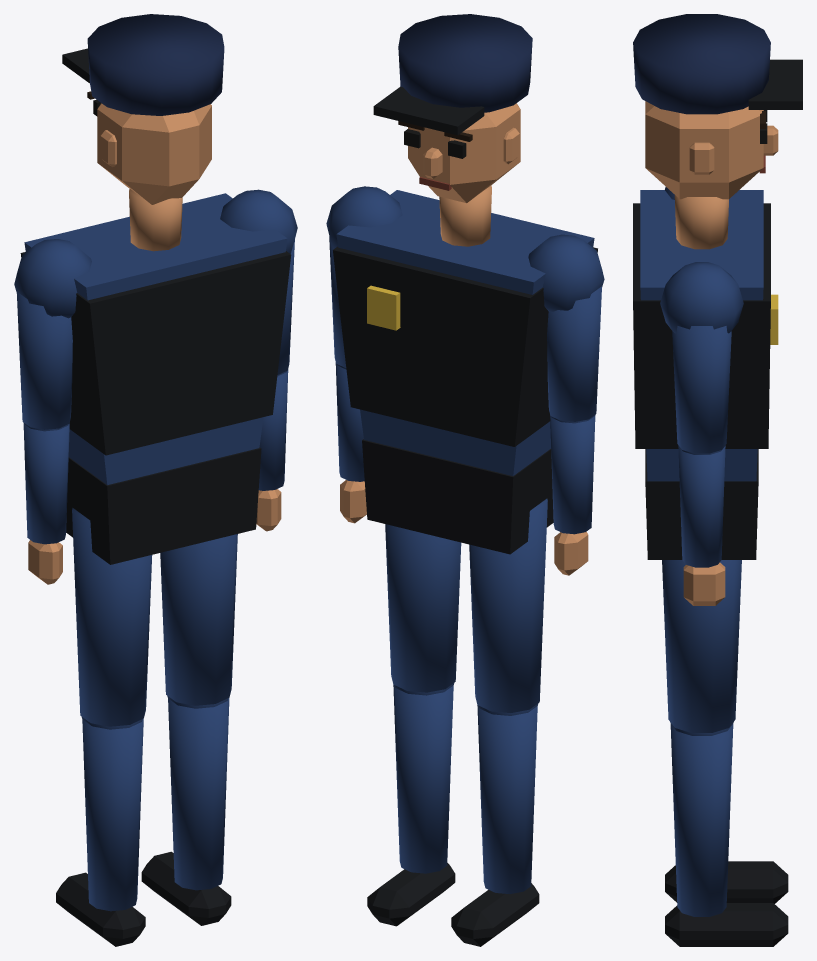
The model's file is policial.glb.
3 views of the same model, side by side, from view 1: azimuth 30°, elevation 25°; view 2: azimuth 150°, elevation 25°; view 3: azimuth 270°, elevation 25° (orthographic).
Visible parts, largest first — view 1: tronco, cabeca, canela_dir, canela_esq, perna_esq, perna_dir, braco_esq, antebraco_esq, antebraco_dir, braco_dir; view 2: tronco, cabeca, canela_dir, canela_esq, perna_esq, perna_dir, braco_esq, antebraco_esq, antebraco_dir, braco_dir; view 3: tronco, cabeca, canela_dir, perna_dir, braco_dir, antebraco_dir, canela_esq.
Part boxes in pixels (x1,y1,x2,y2): tronco: [14, 189, 297, 564]; cabeca: [62, 14, 224, 204]; canela_dir: [141, 698, 231, 925]; canela_esq: [56, 718, 145, 946]; perna_esq: [72, 508, 152, 729]; perna_dir: [160, 534, 237, 708]; braco_esq: [16, 292, 72, 431]; antebraco_esq: [23, 423, 69, 584]; antebraco_dir: [256, 369, 288, 531]; braco_dir: [277, 240, 294, 376]; tronco: [326, 185, 604, 554]; cabeca: [373, 14, 532, 203]; canela_dir: [367, 684, 455, 926]; canela_esq: [451, 705, 539, 946]; perna_esq: [469, 498, 547, 715]; perna_dir: [385, 524, 461, 695]; braco_esq: [547, 286, 601, 423]; antebraco_esq: [550, 415, 595, 575]; antebraco_dir: [335, 362, 366, 523]; braco_dir: [329, 236, 346, 369]; tronco: [633, 187, 778, 559]; cabeca: [633, 14, 802, 199]; canela_dir: [665, 724, 788, 946]; perna_dir: [662, 560, 741, 735]; braco_dir: [672, 326, 731, 454]; antebraco_dir: [678, 446, 725, 605]; canela_esq: [665, 861, 788, 903].
Bounding box in the file's own units: 0.6317 × 1.97 × 0.345.
